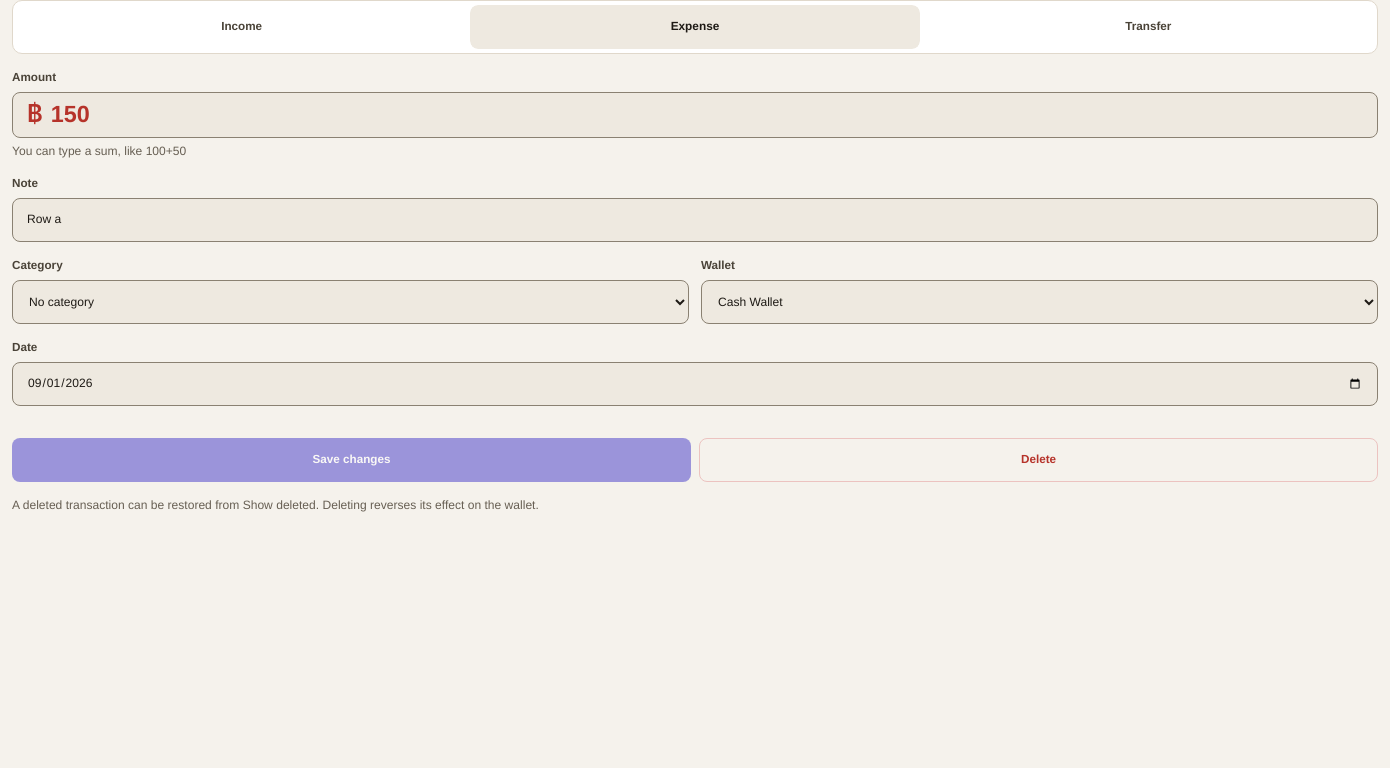
a transaction's save that finishes after another row is open (ADR 0056) › shows its error on its own row
Replace the text in the field with id "tx-edit-description" with "Edited A": coordinates (695, 220) [12, 198, 1378, 242]
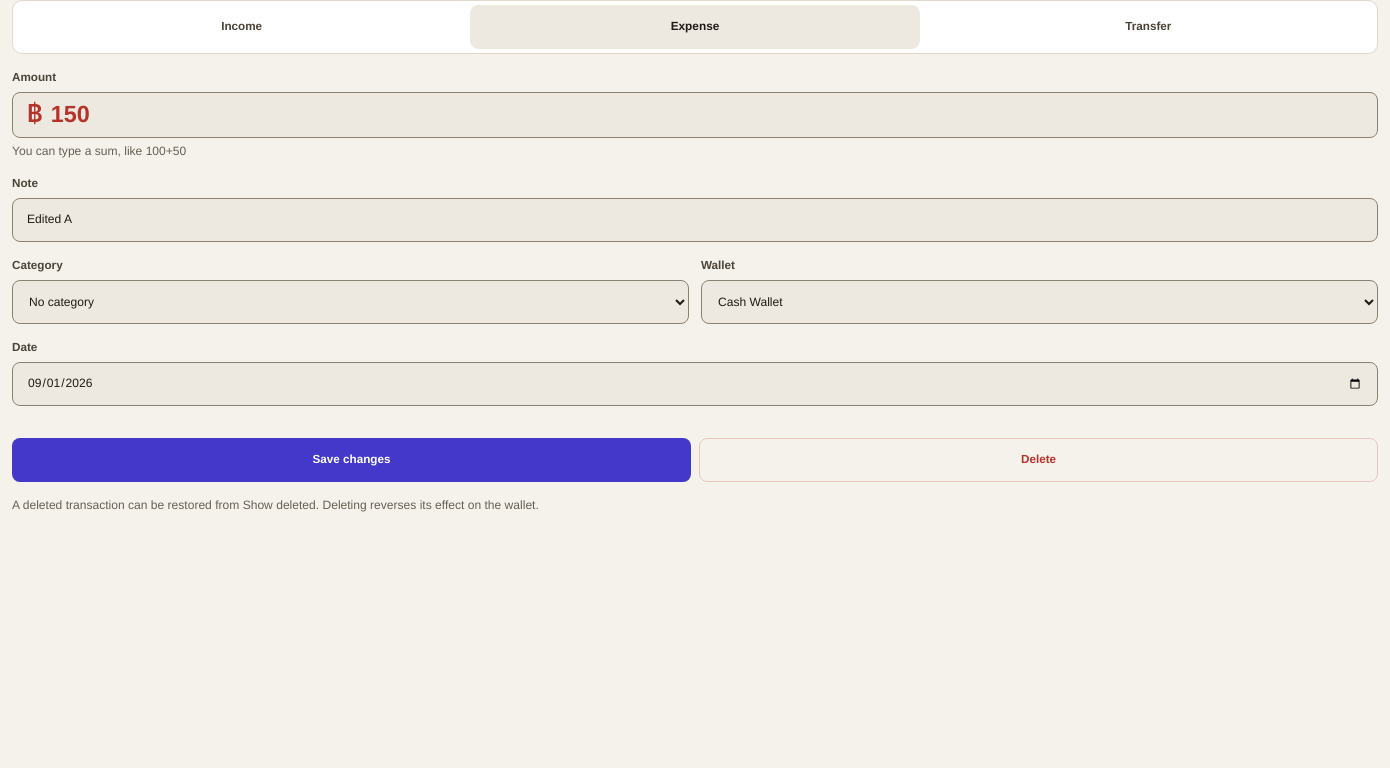
Click the button "Save changes": coordinates (352, 460) [12, 438, 691, 482]
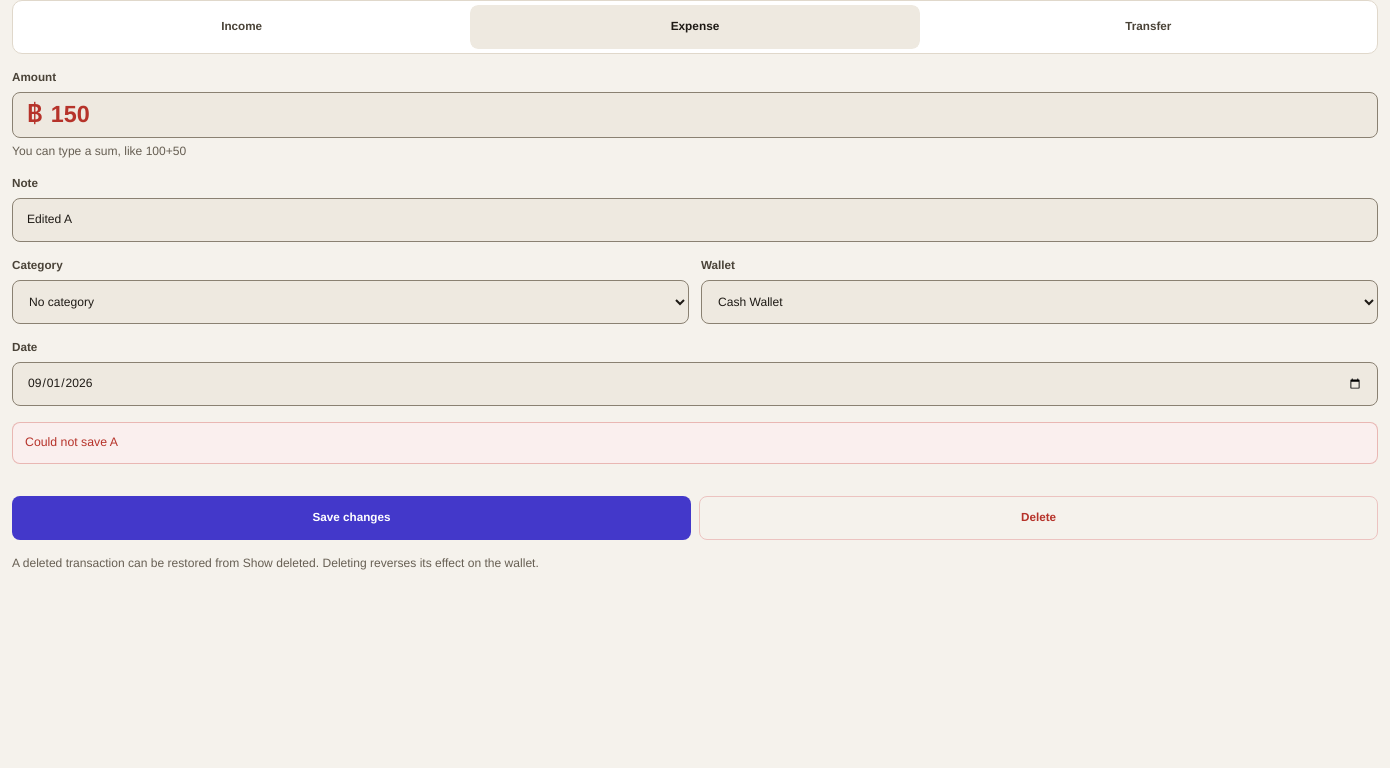
Check: the message "Could not save A" is shown, box [12, 422, 1378, 464]
